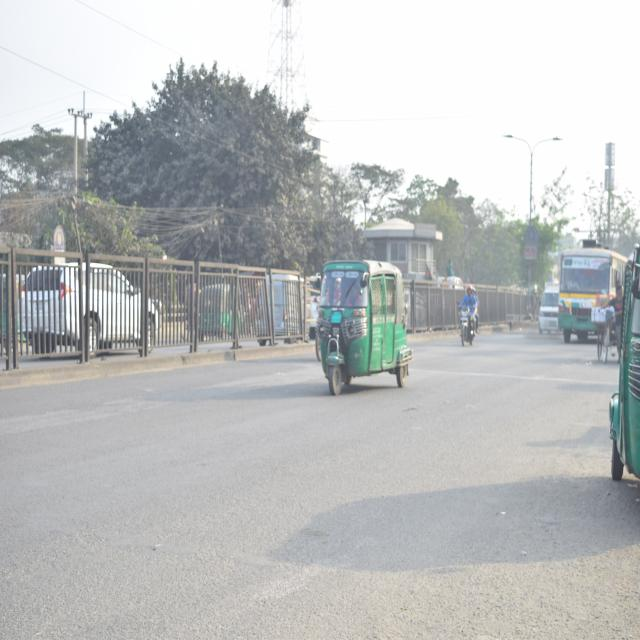bus: (558, 245, 630, 344)
car: (18, 260, 158, 358)
microbus: (537, 285, 560, 343)
motorbike: (448, 298, 479, 356)
